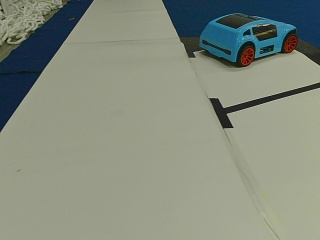car: (198, 15, 296, 66)
